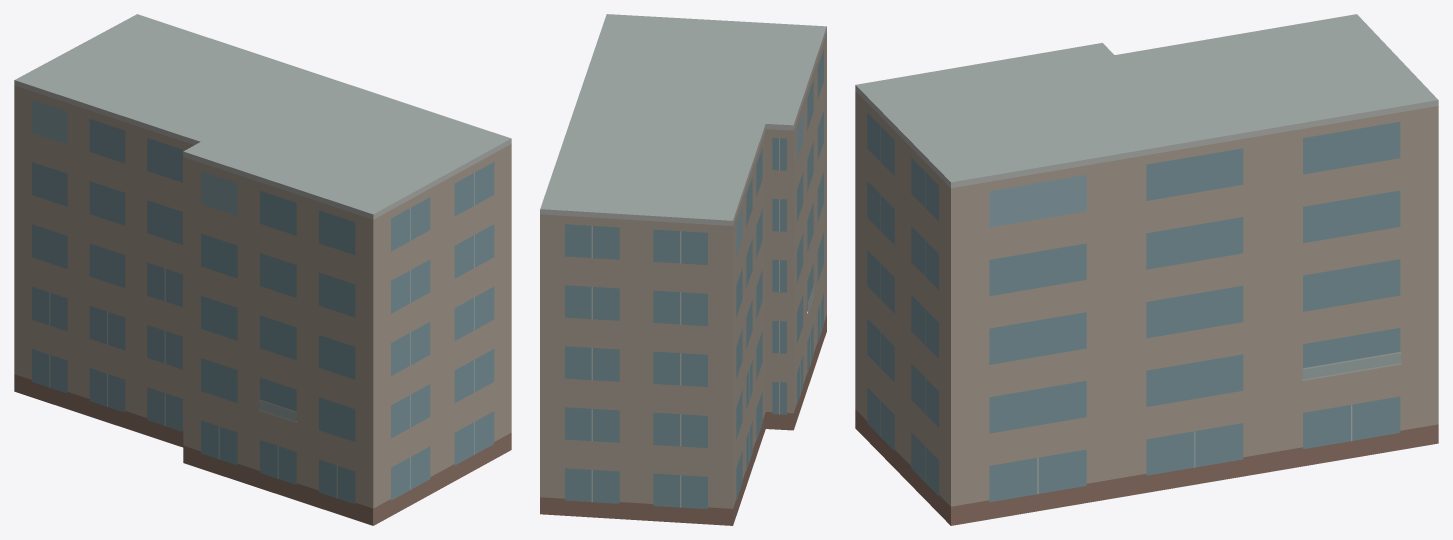
Rendered from survey-upis-32718078.glb.
3 views of the same model, side by side, from view 1: azimuth 30°, elevation 25°; view 2: azimuth 150°, elevation 25°; view 3: azimuth 270°, elevation 25° (orthographic). The views are drawn at different scales.
Parts seen in each view (by area): view 1: survey-upis-32718078.tmp; view 2: survey-upis-32718078.tmp; view 3: survey-upis-32718078.tmp.
Boxes of the visible parts, bbox=[...] form: survey-upis-32718078.tmp: bbox=[14, 14, 511, 525]; survey-upis-32718078.tmp: bbox=[540, 14, 826, 525]; survey-upis-32718078.tmp: bbox=[855, 14, 1438, 525].
Size of the model in its own units: 15.05 by 14.3 by 22.01.
